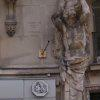Statue: (41, 1, 100, 96)
